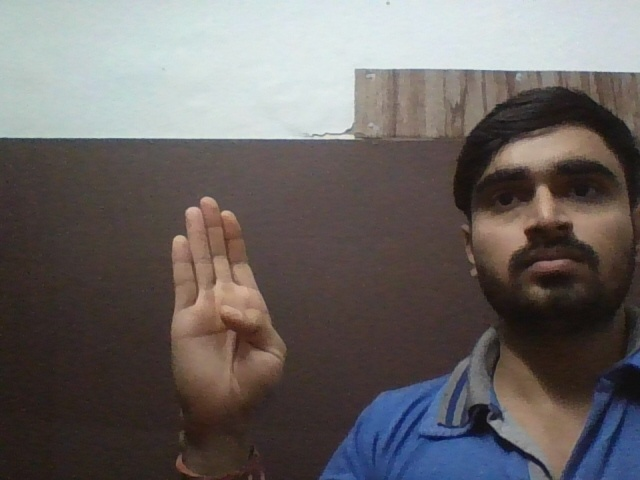B: (159, 193, 298, 428)
